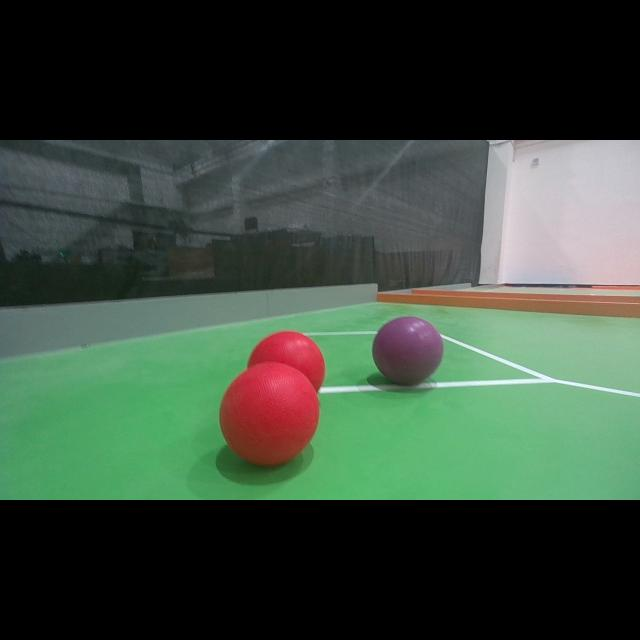P: (372, 316, 443, 386)
R: (220, 362, 320, 466), (240, 331, 328, 399)
